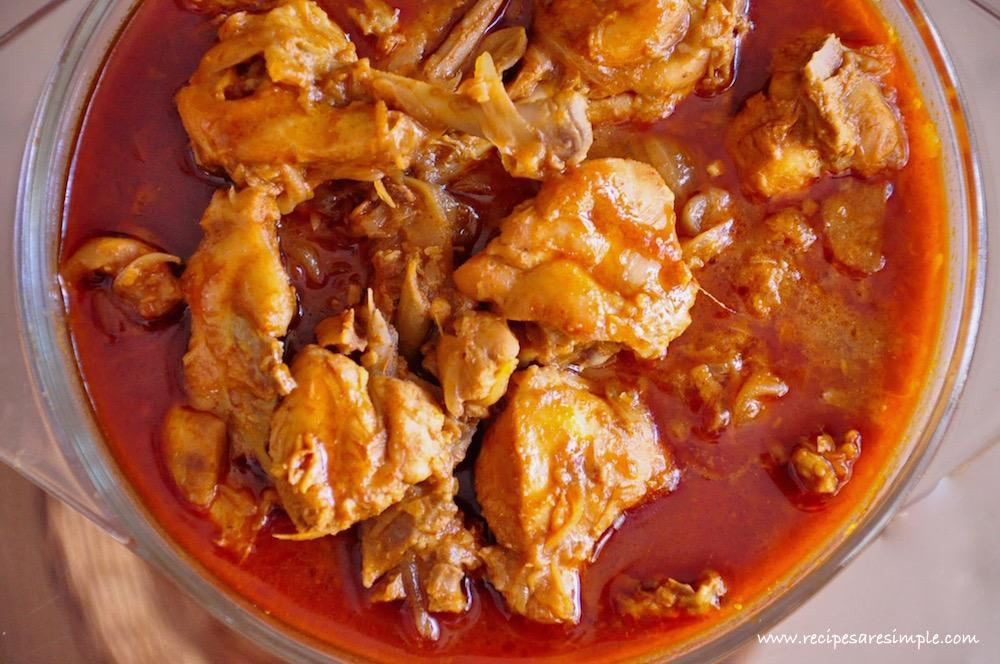chicken: (74, 5, 956, 664)
